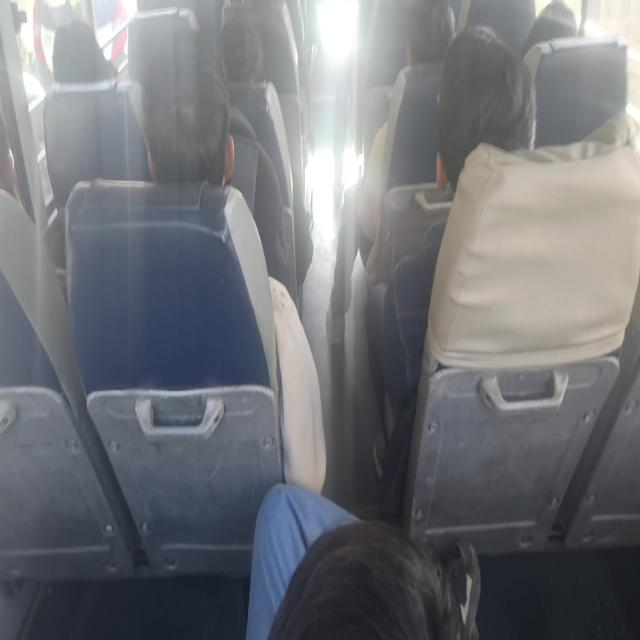person: (130, 16, 327, 493), (364, 23, 537, 501), (245, 481, 481, 638), (356, 0, 455, 269), (135, 23, 235, 185), (52, 18, 118, 84)
